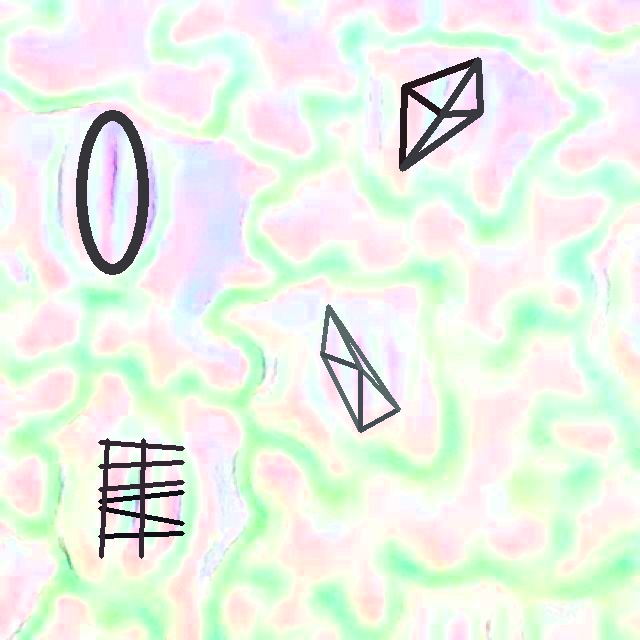close: (401, 58, 483, 171)
open: (76, 110, 148, 273), (320, 305, 400, 432), (99, 439, 183, 558)
